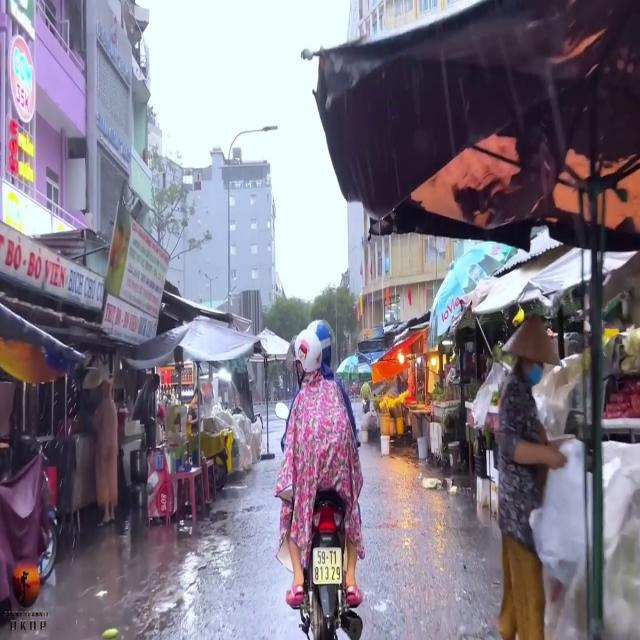bien_trang: (309, 542, 347, 590)
